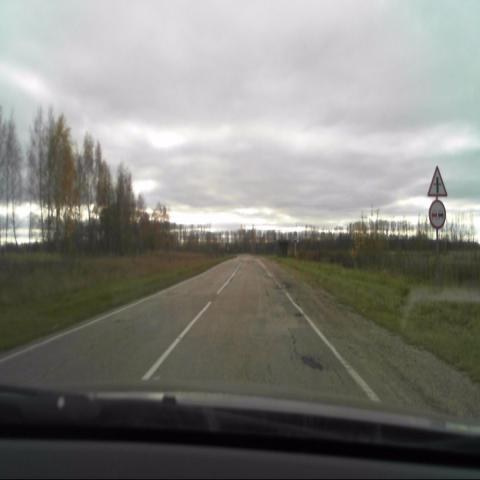2_3: (426, 164, 447, 198)
3_20: (428, 200, 446, 229)
